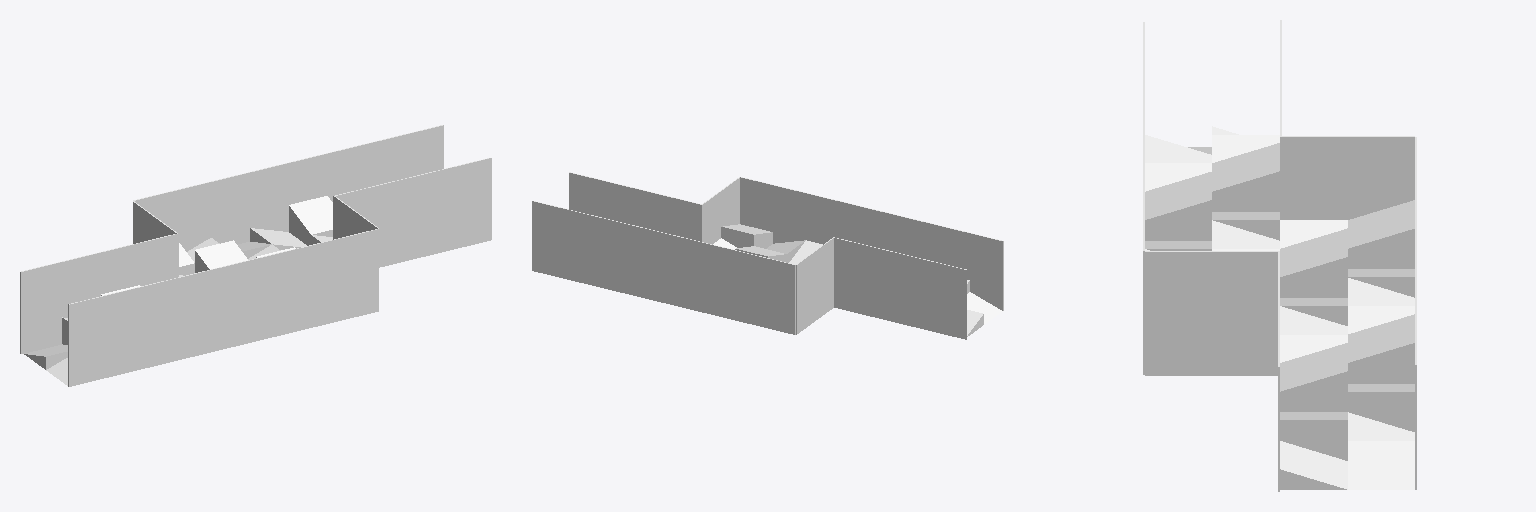
The robot description file, URDF, robot "terrain-ramps_3":
<?xml version="1.0" encoding="utf-8"?>
<!-- This URDF was automatically created by SolidWorks to URDF Exporter! Originally created by [author] ([email redacted]) 
     Commit Version: 1.6.0-4-g7f85cfe  Build Version: 1.6.7995.38578
     For more information, please see http://wiki.ros.org/sw_urdf_exporter -->
<robot
  name="terrain-ramps_3">
  <link
    name="base_link">
    <inertial>
      <origin
        xyz="3.5519 1.202 0.22801"
        rpy="0 0 0" />
      <mass
        value="4041.8" />
      <inertia
        ixx="211.64"
        ixy="-2.3511E-14"
        ixz="1.3857E-13"
        iyy="243.43"
        iyz="-4.144"
        izz="260.27" />
    </inertial>
    <visual>
      <origin
        xyz="0 0 0"
        rpy="0 0 0" />
      <geometry>
        <mesh
          filename="package://terrain-ramps_3/meshes/base_link.STL" />
      </geometry>
      <material
        name="">
        <color
          rgba="1 1 1 1" />
      </material>
    </visual>
    <collision>
      <origin
        xyz="0 0 0"
        rpy="0 0 0" />
      <geometry>
        <mesh
          filename="package://terrain-ramps_3/meshes/base_link.STL" />
      </geometry>
    </collision>
  </link>
</robot>

--- What the picture shows (computed from the rendered views, not written in the file) ---
The picture shows the robot from 3 angles, left to right: view 1: azimuth 30°, elevation 25°; view 2: azimuth 150°, elevation 25°; view 3: azimuth 270°, elevation 25°; orthographic projection.
Robot: terrain-ramps_3 — 1 links, 0 joints (none); root link base_link; default pose: every joint at zero.
Visible links, largest first — view 1: base_link; view 2: base_link; view 3: base_link.
Boxes of the visible links, x1,y1,x2,y2 form: base_link: (20, 125, 491, 386); base_link: (532, 172, 1003, 339); base_link: (1143, 20, 1416, 491).
Size in the robot's own frame: 7.28 by 2.44 by 1.22 metres.
Meshes: 1 distinct files referenced, 1 mesh visuals loaded (1 binary STL).